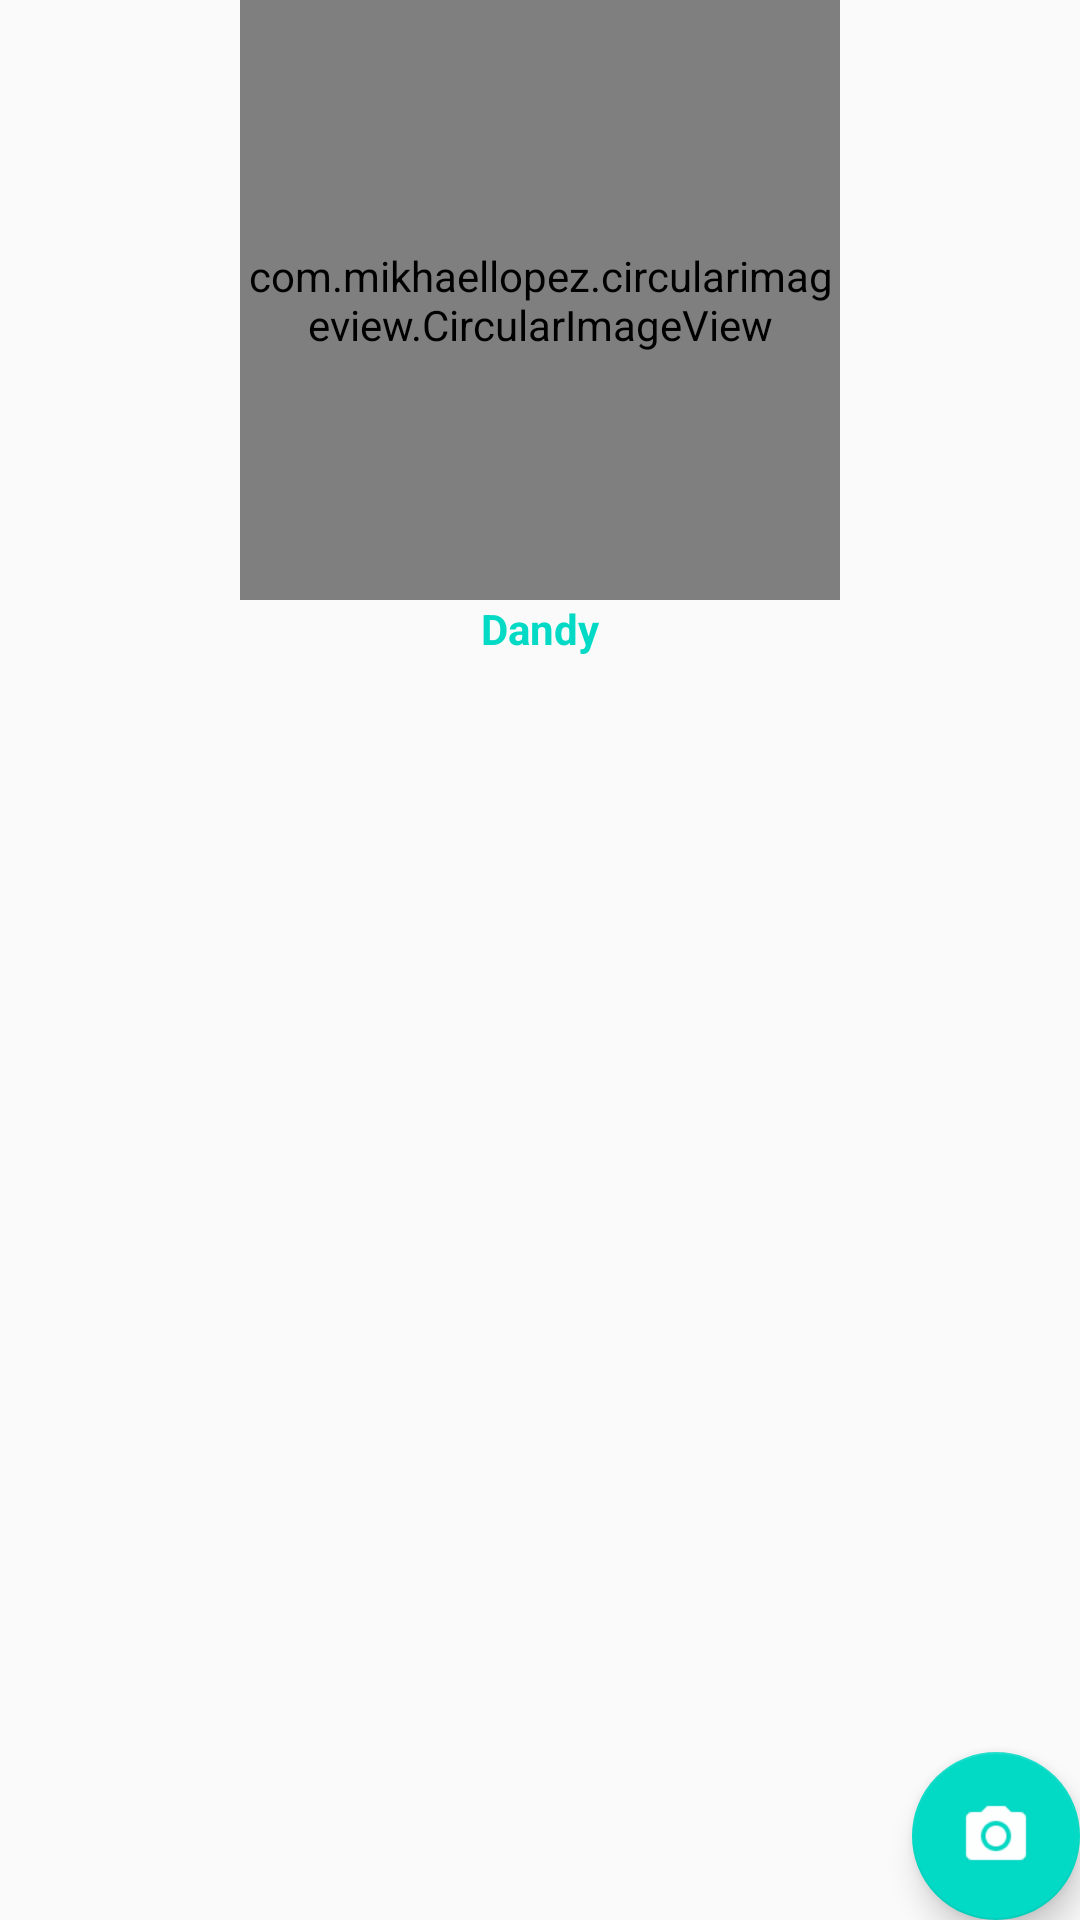

Icons on this 1080px×1920px Android screen, each with its box as (x1, y1, x2, y2):
camera: (912, 1752, 1080, 1920)
